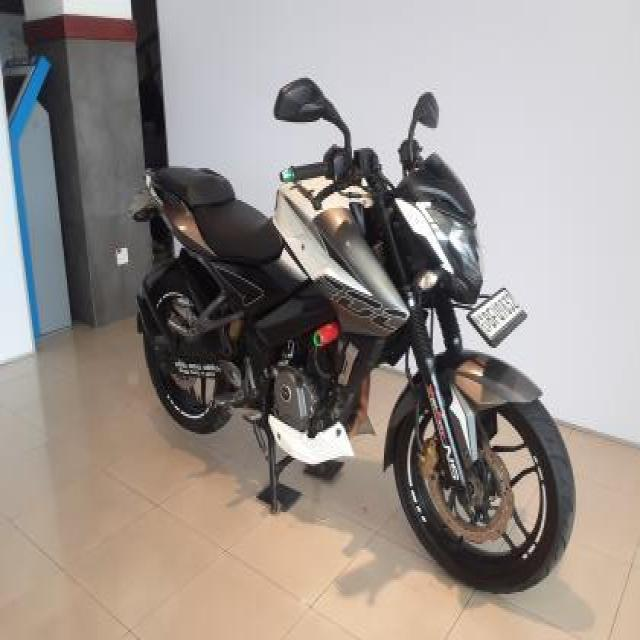motorcycle: (137, 61, 580, 602)
